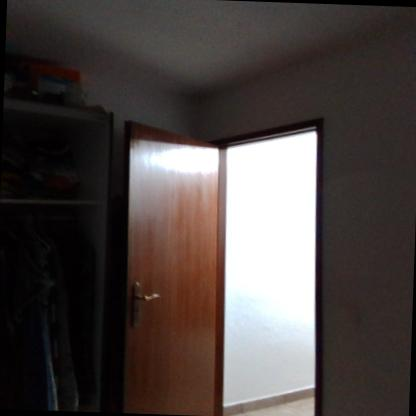open: (103, 107, 344, 416)
